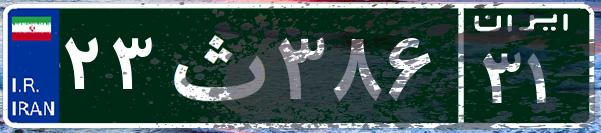1: (525, 38, 570, 115)
2: (57, 26, 110, 107)
3: (273, 28, 330, 110), (475, 38, 525, 113), (110, 28, 158, 105)
6: (385, 28, 445, 110)
8: (330, 28, 385, 110)
ث: (158, 15, 273, 115)
